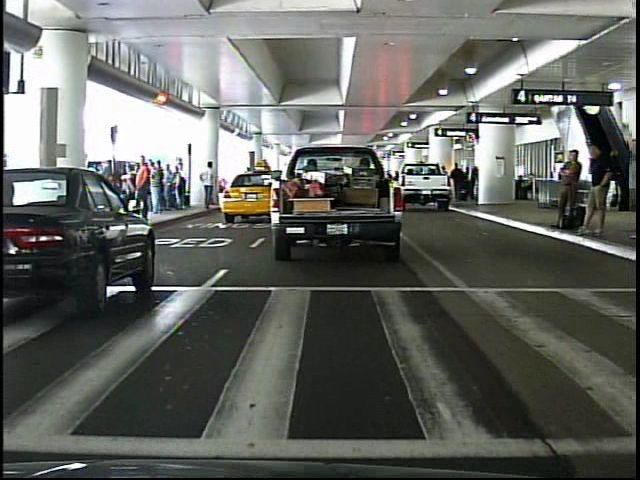person: (580, 139, 616, 239), (550, 141, 585, 237), (131, 153, 155, 219), (200, 160, 220, 212)
